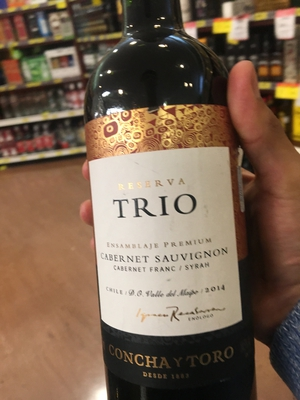trio cabernet sauvignon: (80, 15, 260, 400)
